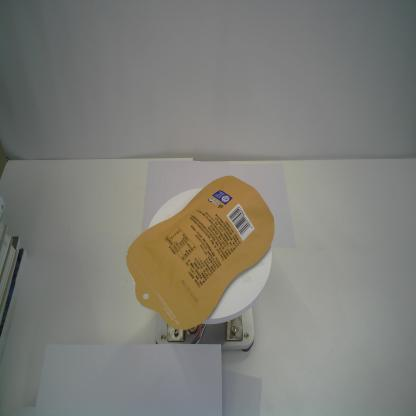Dried Fruit: (124, 174, 276, 330)
